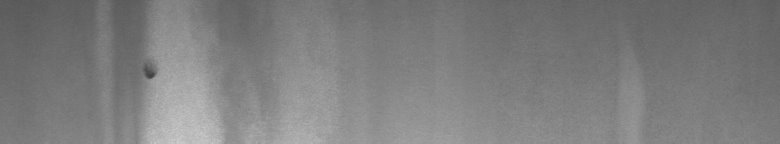fi: (140, 63, 160, 87)
